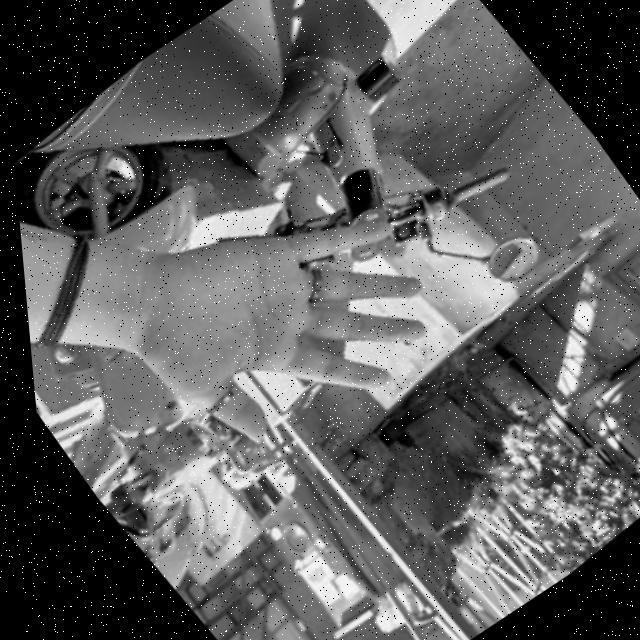no-gloves: (65, 108, 478, 486)
